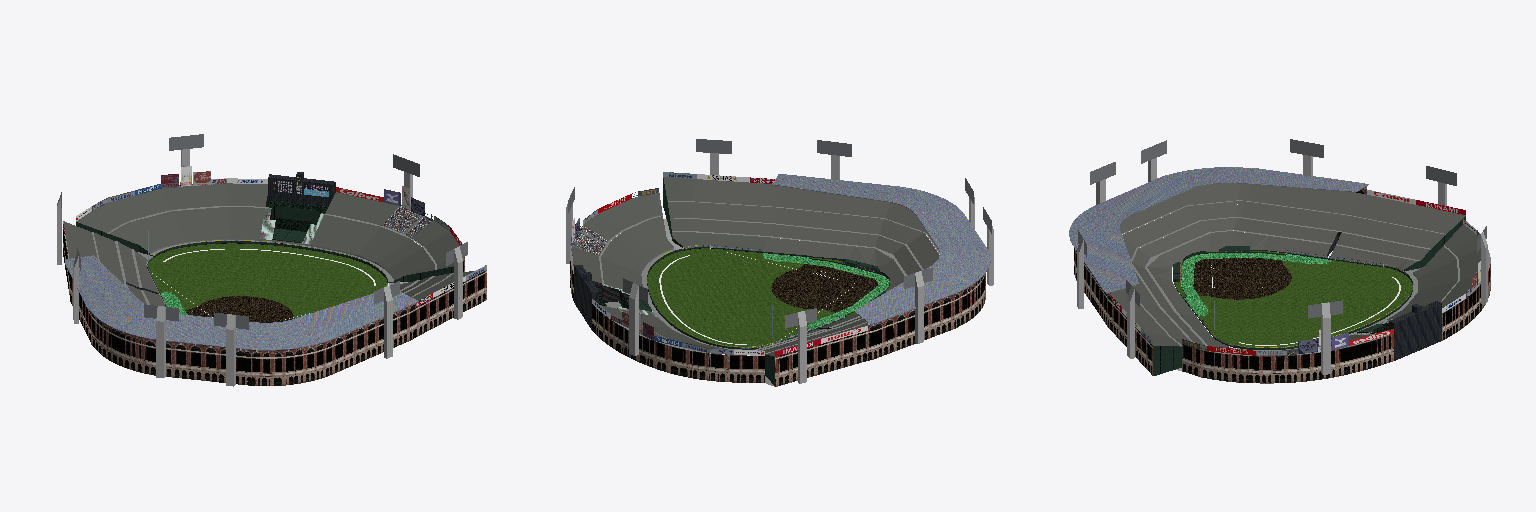
The picture shows the model from 3 angles: view 1: azimuth 30°, elevation 25°; view 2: azimuth 150°, elevation 25°; view 3: azimuth 270°, elevation 25°; orthographic projection.
Visible parts, largest first — view 1: Hanshin_Koshien_Stadium_Main-Crowd_new_3, Hanshin_Koshien_Stadium_Main-long_sides, Hanshin_Koshien_Stadium_Main-field_grass2, Hanshin_Koshien_Stadium_Main-Roofing_Slate_Dark, Hanshin_Koshien_Stadium_Main-crowd_new_4, Hanshin_Koshien_Stadium_Main-Groundcover_Sand_Smooth, Hanshin_Koshien_Stadium_Main-Material10, Hanshin_Koshien_Stadium_Main-Blacktop_Old_02, Hanshin_Koshien_Stadium_Main-Blinds_Vertical_Pattern, Hanshin_Koshien_Stadium_Main-seating_attendance3_grey, Hanshin_Koshien_Stadium_g_24045-Material5, Hanshin_Koshien_Stadium_g_24034-Material5 (+4 smaller); view 2: Hanshin_Koshien_Stadium_Main-crowd_new_4, Hanshin_Koshien_Stadium_Main-field_grass2, Hanshin_Koshien_Stadium_Main-long_sides, Hanshin_Koshien_Stadium_Main-Roofing_Slate_Dark, Hanshin_Koshien_Stadium_Main-Crowd_new_3, Hanshin_Koshien_Stadium_Main-Groundcover_Sand_Smooth, Hanshin_Koshien_Stadium_Main-Crowd_new_1, Hanshin_Koshien_Stadium_Main-Blacktop_Old_02, Hanshin_Koshien_Stadium_Main-Grass_Dark_Green, Hanshin_Koshien_Stadium_Main-Blinds_Vertical_Pattern, Hanshin_Koshien_Stadium_Main-Material10, Hanshin_Koshien_Stadium_g_20061-Material5 (+4 smaller); view 3: Hanshin_Koshien_Stadium_Main-crowd_new_4, Hanshin_Koshien_Stadium_Main-field_grass2, Hanshin_Koshien_Stadium_Main-long_sides, Hanshin_Koshien_Stadium_Main-Roofing_Slate_Dark, Hanshin_Koshien_Stadium_Main-Groundcover_Sand_Smooth, Hanshin_Koshien_Stadium_Main-Crowd_new_3, Hanshin_Koshien_Stadium_Main-Blinds_Vertical_Pattern, Hanshin_Koshien_Stadium_Main-Blacktop_Old_02, Hanshin_Koshien_Stadium_Main-Material10, Hanshin_Koshien_Stadium_Main-Grass_Dark_Green, Hanshin_Koshien_Stadium_Main-Crowd_new_1, Hanshin_Koshien_Stadium_g_20062-Material5 (+2 smaller).
Part boxes in pixels (x1,y1,x2,y2): Hanshin_Koshien_Stadium_Main-Crowd_new_3: (76, 183, 459, 279); Hanshin_Koshien_Stadium_Main-long_sides: (63, 227, 486, 385); Hanshin_Koshien_Stadium_Main-field_grass2: (147, 243, 387, 317); Hanshin_Koshien_Stadium_Main-Roofing_Slate_Dark: (65, 255, 418, 350); Hanshin_Koshien_Stadium_Main-crowd_new_4: (63, 221, 453, 306); Hanshin_Koshien_Stadium_Main-Groundcover_Sand_Smooth: (185, 296, 294, 322); Hanshin_Koshien_Stadium_Main-Material10: (76, 201, 453, 282); Hanshin_Koshien_Stadium_Main-Blacktop_Old_02: (92, 185, 453, 304); Hanshin_Koshien_Stadium_Main-Blinds_Vertical_Pattern: (126, 172, 335, 293); Hanshin_Koshien_Stadium_Main-seating_attendance3_grey: (383, 206, 433, 236); Hanshin_Koshien_Stadium_g_24045-Material5: (226, 314, 235, 386); Hanshin_Koshien_Stadium_g_24034-Material5: (156, 306, 165, 377); Hanshin_Koshien_Stadium_Main-crowd_new_4: (687, 179, 939, 356); Hanshin_Koshien_Stadium_Main-field_grass2: (647, 248, 856, 348); Hanshin_Koshien_Stadium_Main-long_sides: (570, 261, 985, 386); Hanshin_Koshien_Stadium_Main-Roofing_Slate_Dark: (773, 174, 990, 324); Hanshin_Koshien_Stadium_Main-Crowd_new_3: (572, 193, 727, 349); Hanshin_Koshien_Stadium_Main-Groundcover_Sand_Smooth: (771, 264, 877, 312); Hanshin_Koshien_Stadium_Main-Crowd_new_1: (663, 177, 766, 251); Hanshin_Koshien_Stadium_Main-Blacktop_Old_02: (570, 201, 939, 386); Hanshin_Koshien_Stadium_Main-Grass_Dark_Green: (762, 253, 889, 329); Hanshin_Koshien_Stadium_Main-Blinds_Vertical_Pattern: (574, 265, 830, 329); Hanshin_Koshien_Stadium_Main-Material10: (620, 178, 885, 385); Hanshin_Koshien_Stadium_g_20061-Material5: (629, 283, 638, 355); Hanshin_Koshien_Stadium_Main-crowd_new_4: (1111, 183, 1465, 344); Hanshin_Koshien_Stadium_Main-field_grass2: (1174, 251, 1412, 347); Hanshin_Koshien_Stadium_Main-long_sides: (1074, 186, 1490, 383); Hanshin_Koshien_Stadium_Main-Roofing_Slate_Dark: (1069, 167, 1368, 293); Hanshin_Koshien_Stadium_Main-Groundcover_Sand_Smooth: (1193, 258, 1291, 299); Hanshin_Koshien_Stadium_Main-Crowd_new_3: (1200, 224, 1480, 352); Hanshin_Koshien_Stadium_Main-Blinds_Vertical_Pattern: (1327, 233, 1441, 360); Hanshin_Koshien_Stadium_Main-Blacktop_Old_02: (1123, 200, 1490, 355); Hanshin_Koshien_Stadium_Main-Material10: (1153, 216, 1465, 375); Hanshin_Koshien_Stadium_Main-Grass_Dark_Green: (1181, 253, 1331, 316); Hanshin_Koshien_Stadium_Main-Crowd_new_1: (1147, 313, 1228, 347); Hanshin_Koshien_Stadium_g_20062-Material5: (1321, 302, 1330, 374).
Size of the model in its own units: 238 by 47.97 by 238.
Materials: 59 (46 with a texture image).